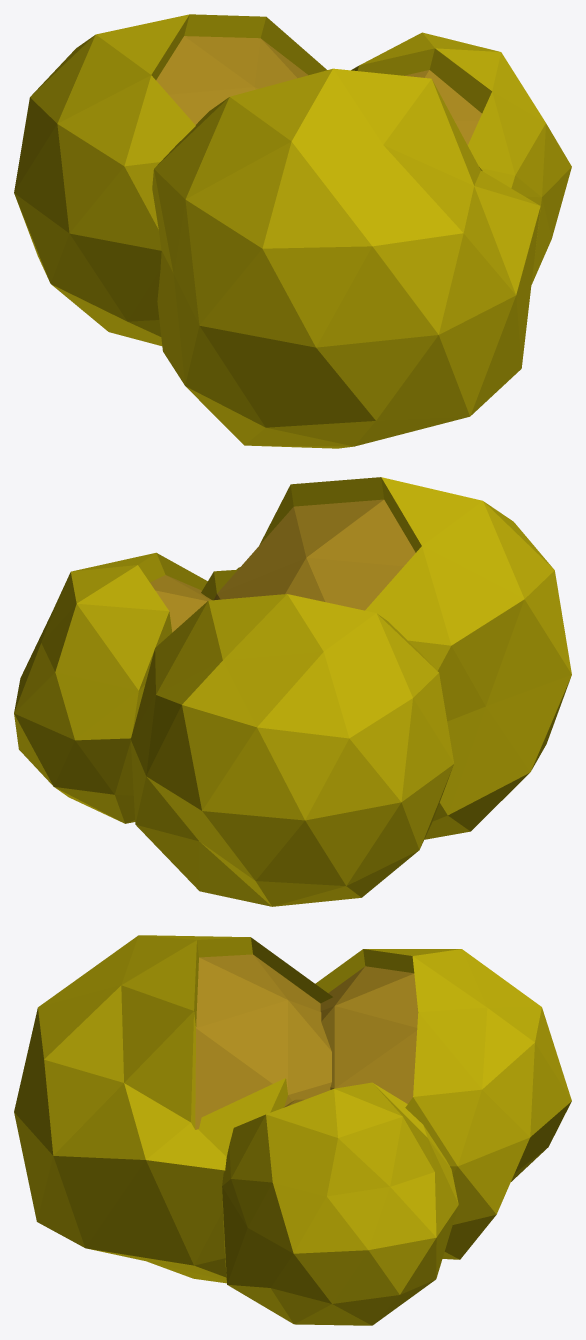
The model's file is Popcorinka1.fbx.
3 views of the same model, one above another, from view 1: azimuth 30°, elevation 25°; view 2: azimuth 150°, elevation 25°; view 3: azimuth 270°, elevation 25° (orthographic). The views are drawn at different scales.
Parts seen in each view (by area): view 1: Icosphere, Icosphere.004; view 2: Icosphere, Icosphere.004; view 3: Icosphere, Icosphere.004.
Part boxes in pixels (box(x1,y1,x2,y2)): Icosphere: box(14, 14, 571, 448); Icosphere.004: box(156, 36, 481, 145); Icosphere: box(14, 477, 571, 906); Icosphere.004: box(150, 499, 415, 632); Icosphere: box(14, 935, 571, 1325); Icosphere.004: box(195, 954, 418, 1129).
Bounding box in the file's own units: 37.65 × 29.45 × 44.11.
